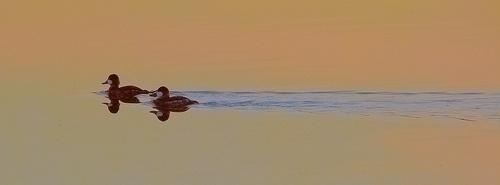bird: (103, 75, 157, 104), (152, 87, 199, 110)
